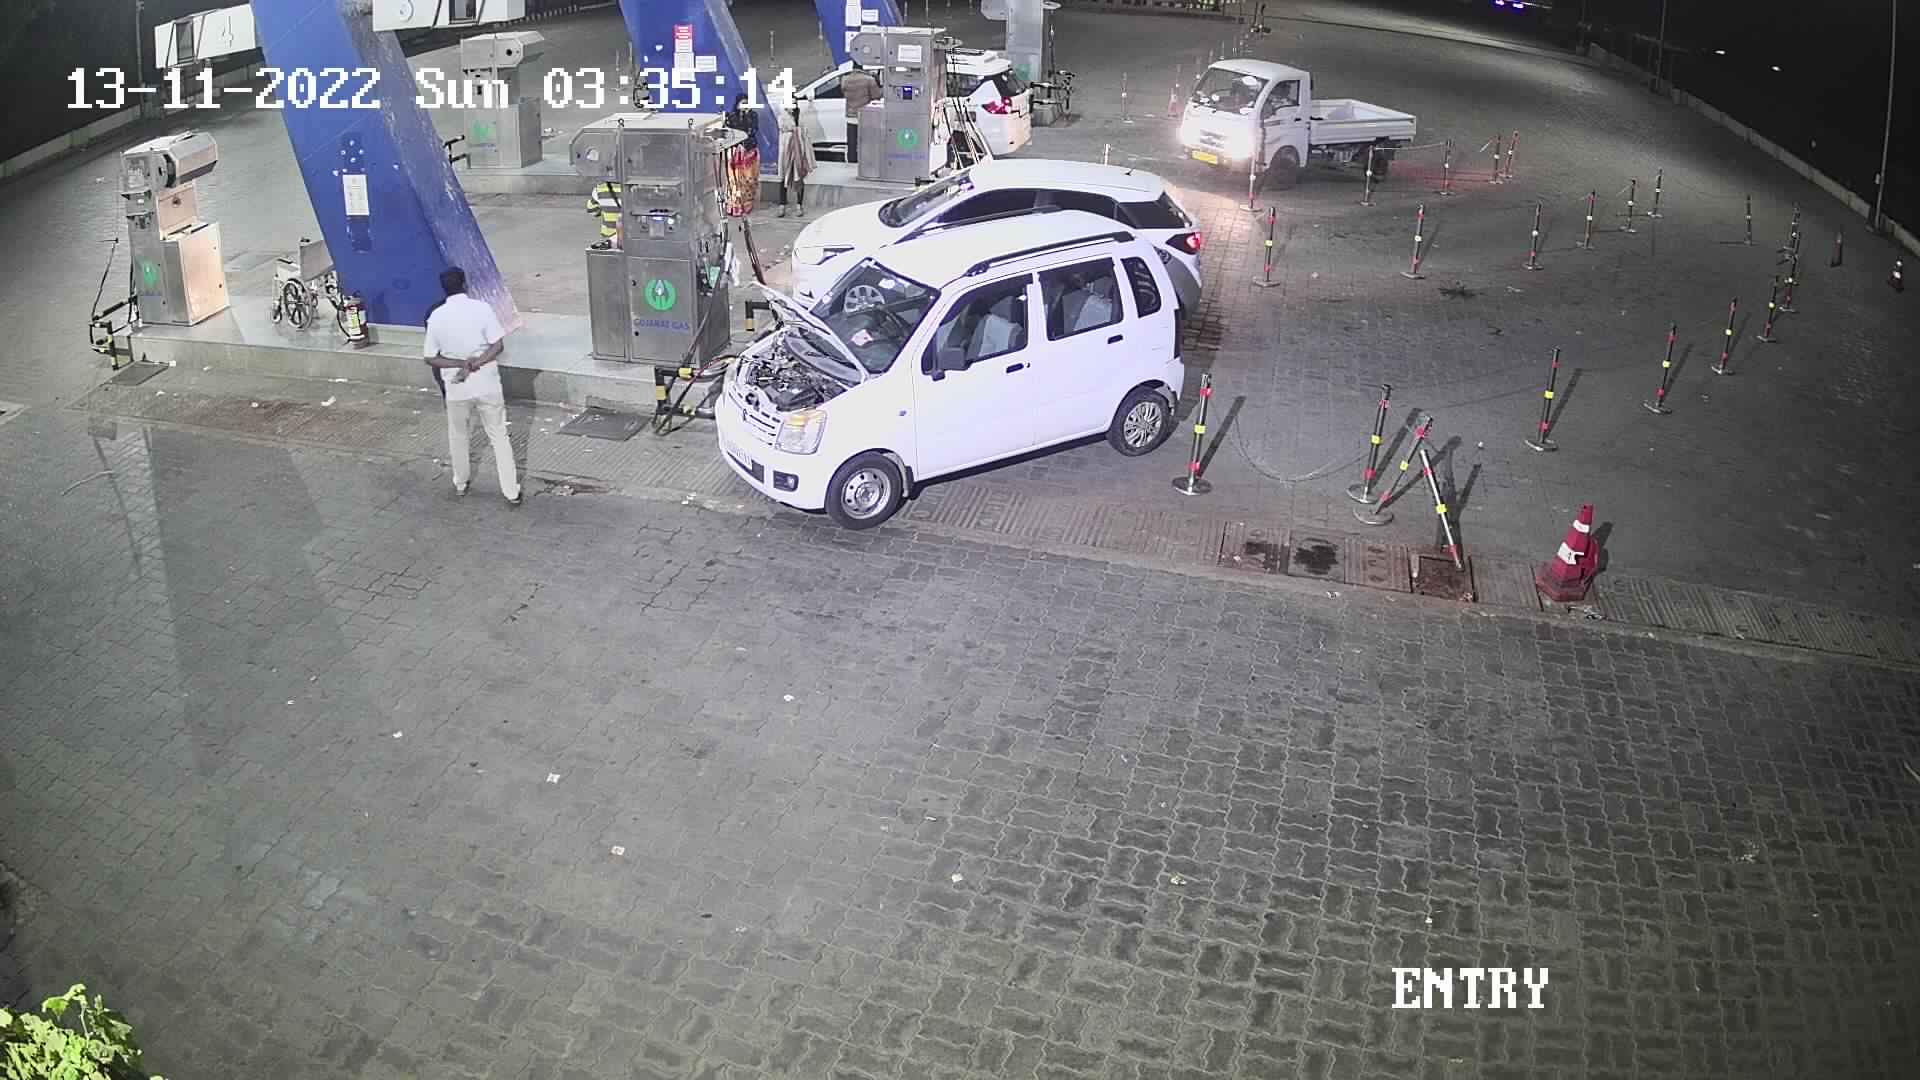Car: (708, 200, 1195, 539), (778, 146, 1211, 332), (1159, 45, 1427, 194), (934, 24, 1040, 167)
